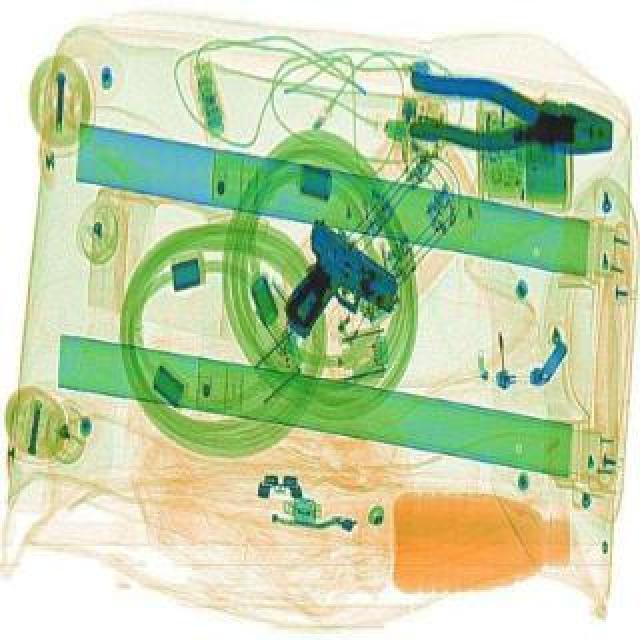gun: (248, 212, 414, 362)
wrench: (400, 64, 620, 164)
